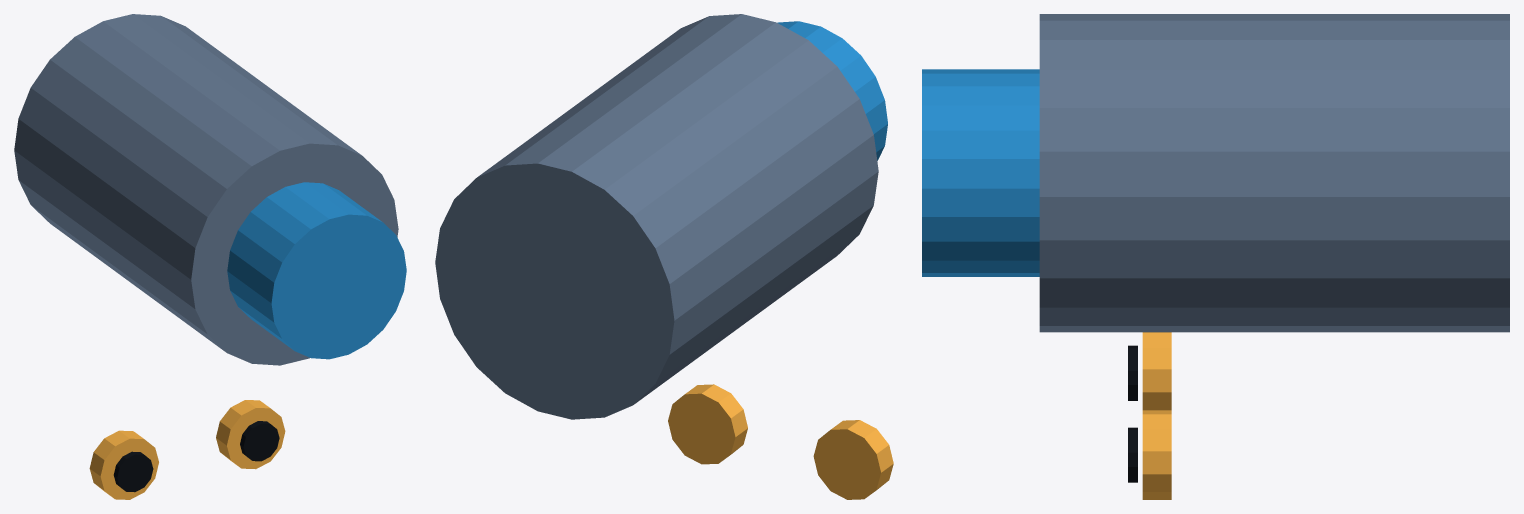
Rendered from 78_L90_OpticalPlumeSpectrometer.fbx.
The picture shows the model from 3 angles, left to right: view 1: azimuth 30°, elevation 25°; view 2: azimuth 150°, elevation 25°; view 3: azimuth 270°, elevation 25°; orthographic projection. The views are drawn at different scales.
Parts seen in each view (by area): view 1: L90_OpticalPlumeSpectrometer, L90_OpticalPlumeSpectrometer_Part_0001, L90_OpticalPlumeSpectrometer_Part_0004, L90_OpticalPlumeSpectrometer_Part_0002, L90_OpticalPlumeSpectrometer_Part_0005, L90_OpticalPlumeSpectrometer_Part_0003; view 2: L90_OpticalPlumeSpectrometer, L90_OpticalPlumeSpectrometer_Part_0004, L90_OpticalPlumeSpectrometer_Part_0002, L90_OpticalPlumeSpectrometer_Part_0001; view 3: L90_OpticalPlumeSpectrometer, L90_OpticalPlumeSpectrometer_Part_0001, L90_OpticalPlumeSpectrometer_Part_0004, L90_OpticalPlumeSpectrometer_Part_0002.
Part boxes in pixels (left/top/right/bottom): L90_OpticalPlumeSpectrometer: left=14, top=14, right=398, bottom=365; L90_OpticalPlumeSpectrometer_Part_0001: left=227, top=182, right=406, bottom=359; L90_OpticalPlumeSpectrometer_Part_0004: left=216, top=400, right=285, bottom=469; L90_OpticalPlumeSpectrometer_Part_0002: left=89, top=430, right=158, bottom=499; L90_OpticalPlumeSpectrometer_Part_0005: left=240, top=421, right=279, bottom=461; L90_OpticalPlumeSpectrometer_Part_0003: left=113, top=451, right=153, bottom=492; L90_OpticalPlumeSpectrometer: left=435, top=14, right=878, bottom=419; L90_OpticalPlumeSpectrometer_Part_0004: left=668, top=384, right=747, bottom=464; L90_OpticalPlumeSpectrometer_Part_0002: left=813, top=420, right=893, bottom=499; L90_OpticalPlumeSpectrometer_Part_0001: left=777, top=21, right=887, bottom=160; L90_OpticalPlumeSpectrometer: left=1039, top=14, right=1509, bottom=332; L90_OpticalPlumeSpectrometer_Part_0001: left=922, top=69, right=1039, bottom=276; L90_OpticalPlumeSpectrometer_Part_0004: left=1142, top=410, right=1171, bottom=499; L90_OpticalPlumeSpectrometer_Part_0002: left=1142, top=332, right=1171, bottom=410.
Bounding box in the file's own units: 57.5 × 74.27 × 85.
